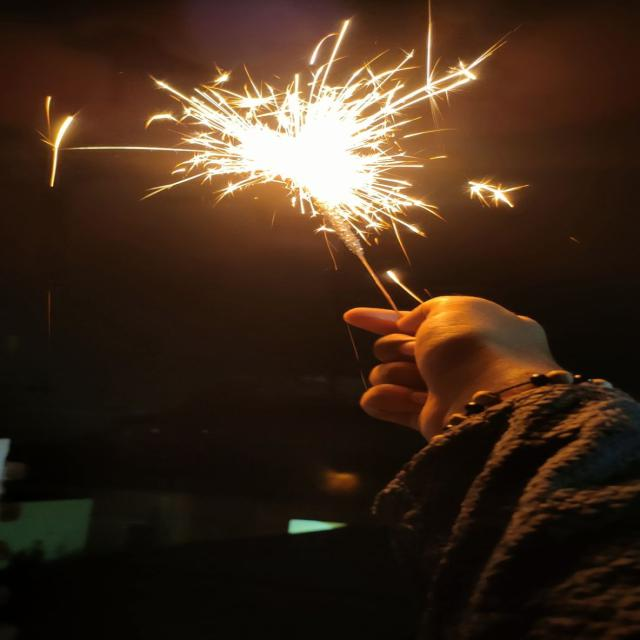fire: (229, 94, 379, 216)
